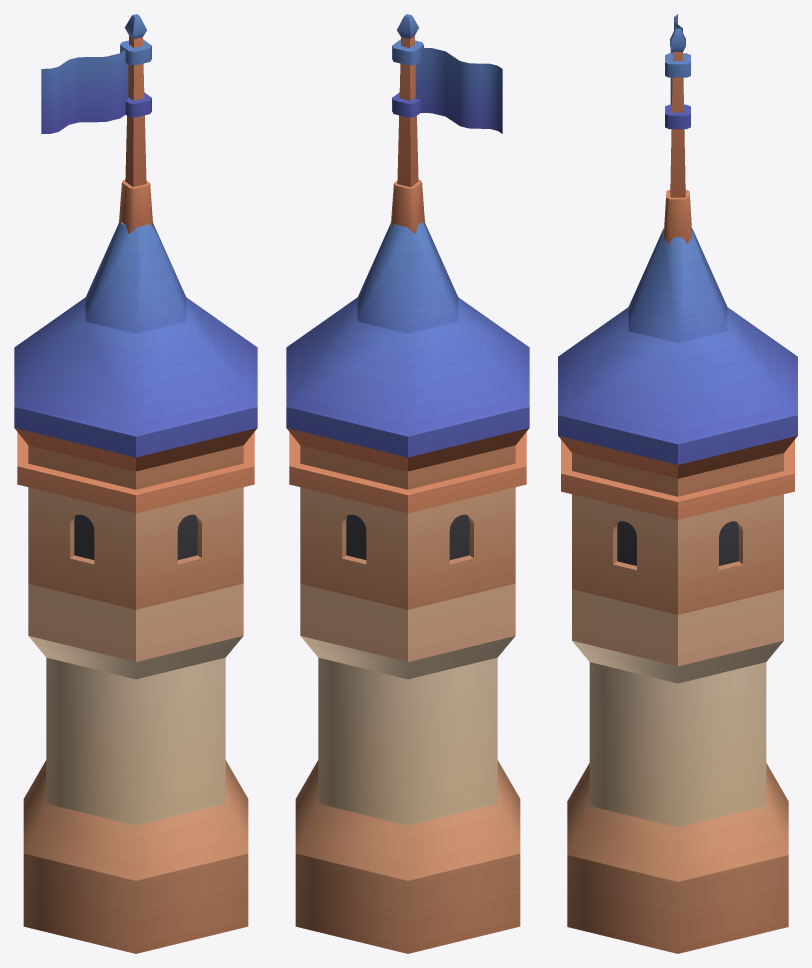
The model's file is tower_hex_full.glb.
3 views of the same model, side by side, from view 1: azimuth 30°, elevation 25°; view 2: azimuth 150°, elevation 25°; view 3: azimuth 270°, elevation 25° (orthographic).
Visible parts, largest first — view 1: tower_hex_full_body; view 2: tower_hex_full_body; view 3: tower_hex_full_body.
Part boxes in pixels (x1,y1,x2,y2): tower_hex_full_body: (14, 14, 257, 953); tower_hex_full_body: (286, 14, 529, 953); tower_hex_full_body: (558, 14, 797, 953).
Size of the model in its own units: 0.9763 by 3.39 by 0.8455.
Materials: 1 (1 with a texture image).
